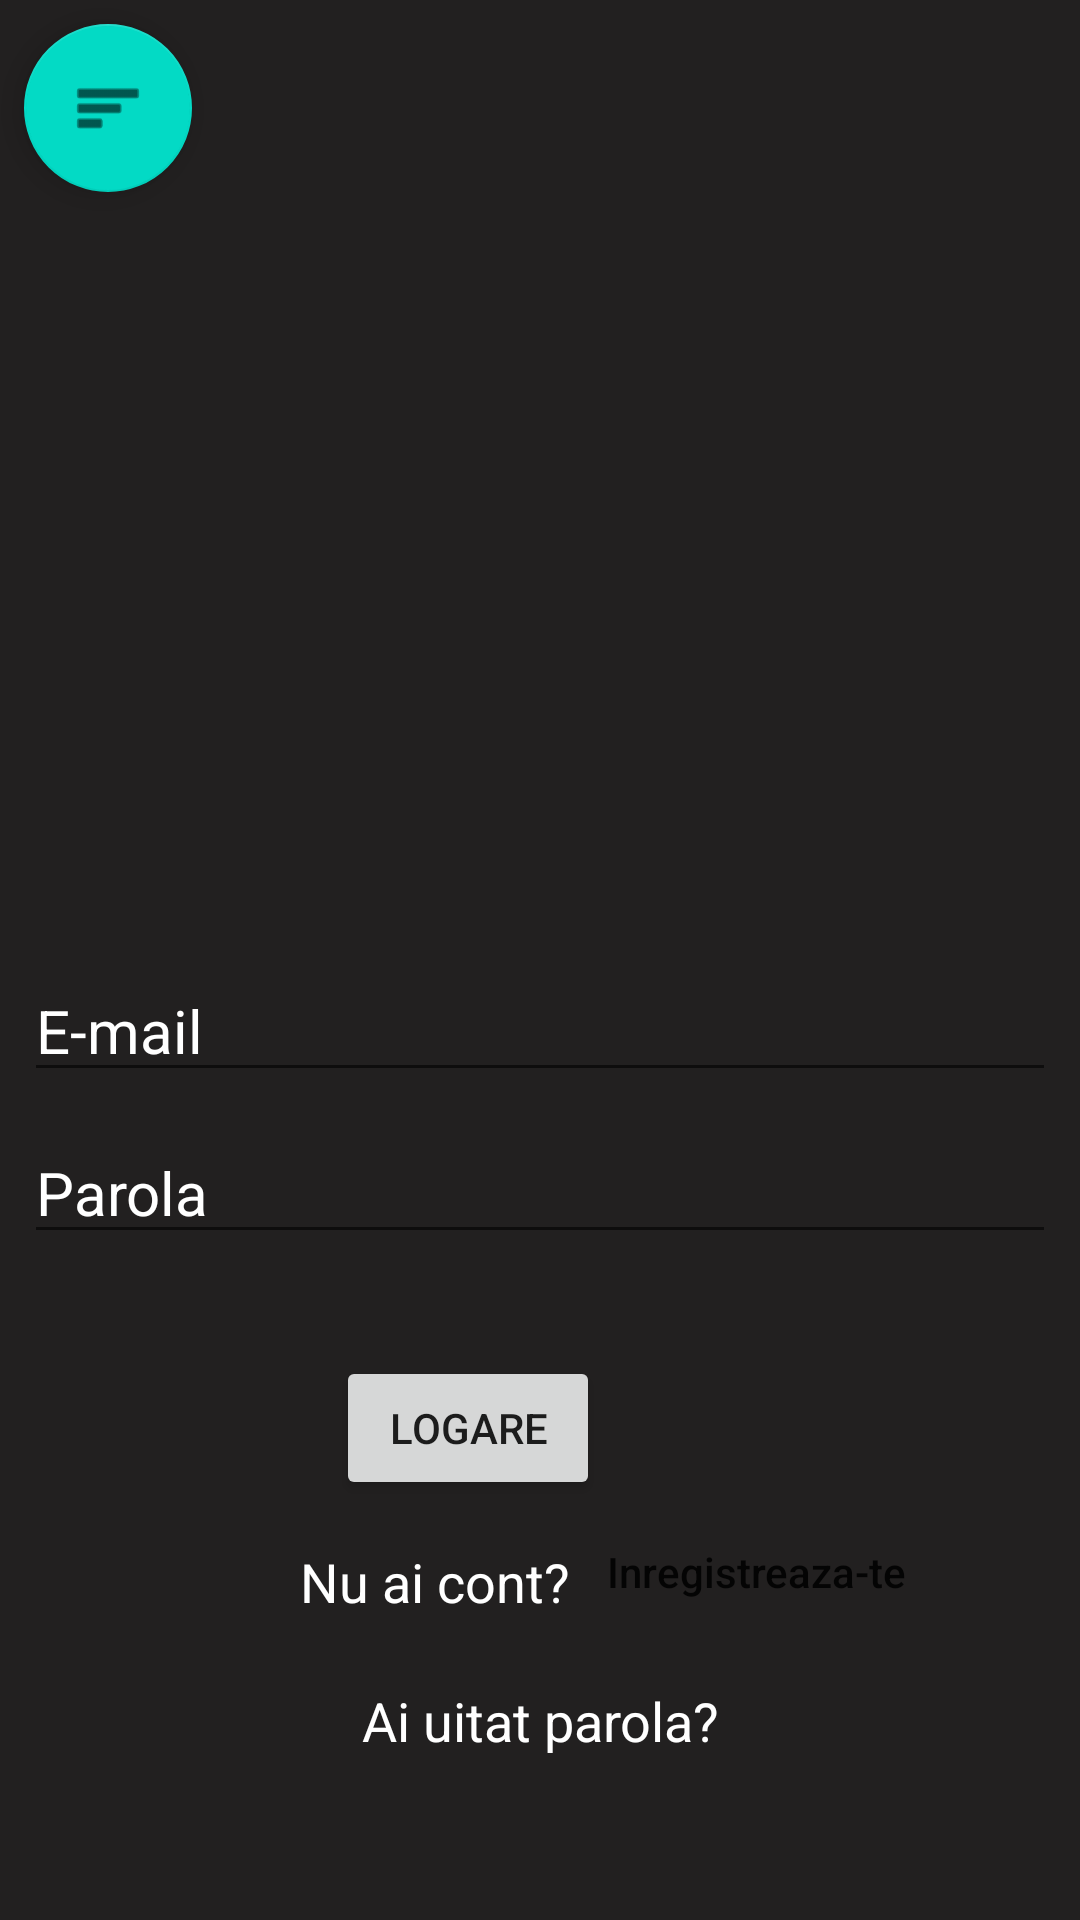

Locate icon controls on the screen. Image size 1080px x 1920px, boxes as (x1, y1, x2, y2).
sort by size: (24, 24, 192, 192)
